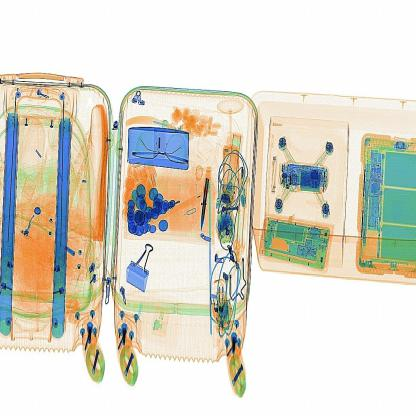gun: (191, 164, 219, 229)
